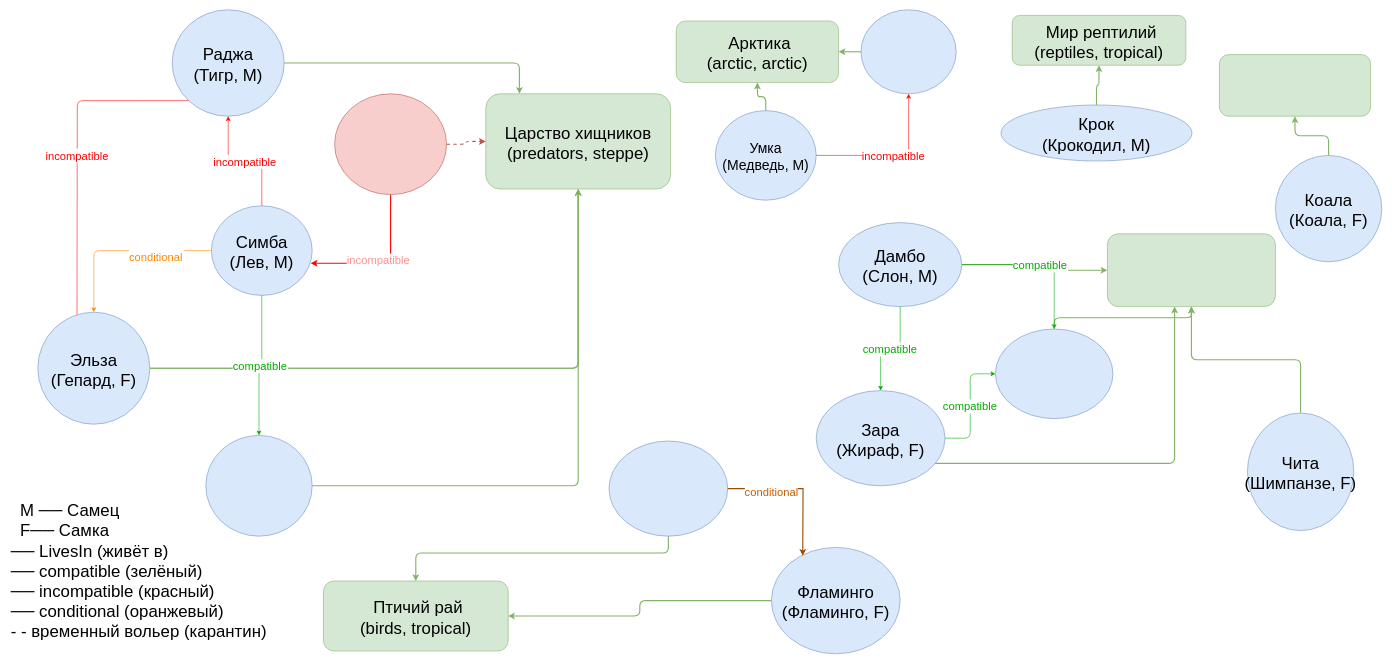
Some shapes in this 1392 by 664 pixel diagram are drawn without their labels. The box of each missing label's shape, as (x1, y1, x2, y2) in pixels:
Волк (С.Волк, М): (334, 93, 447, 195)
Зебра (Зебра, М): (995, 328, 1113, 419)
Лора (Попугай, F): (608, 440, 728, 536)
Нала (Лев, F): (205, 435, 312, 536)
Пингви (Пингвин, М): (860, 9, 956, 94)
Саванна (herbivores, steppe): (1107, 233, 1275, 307)
Тропический лес (tropical, tropical): (1219, 54, 1371, 116)
